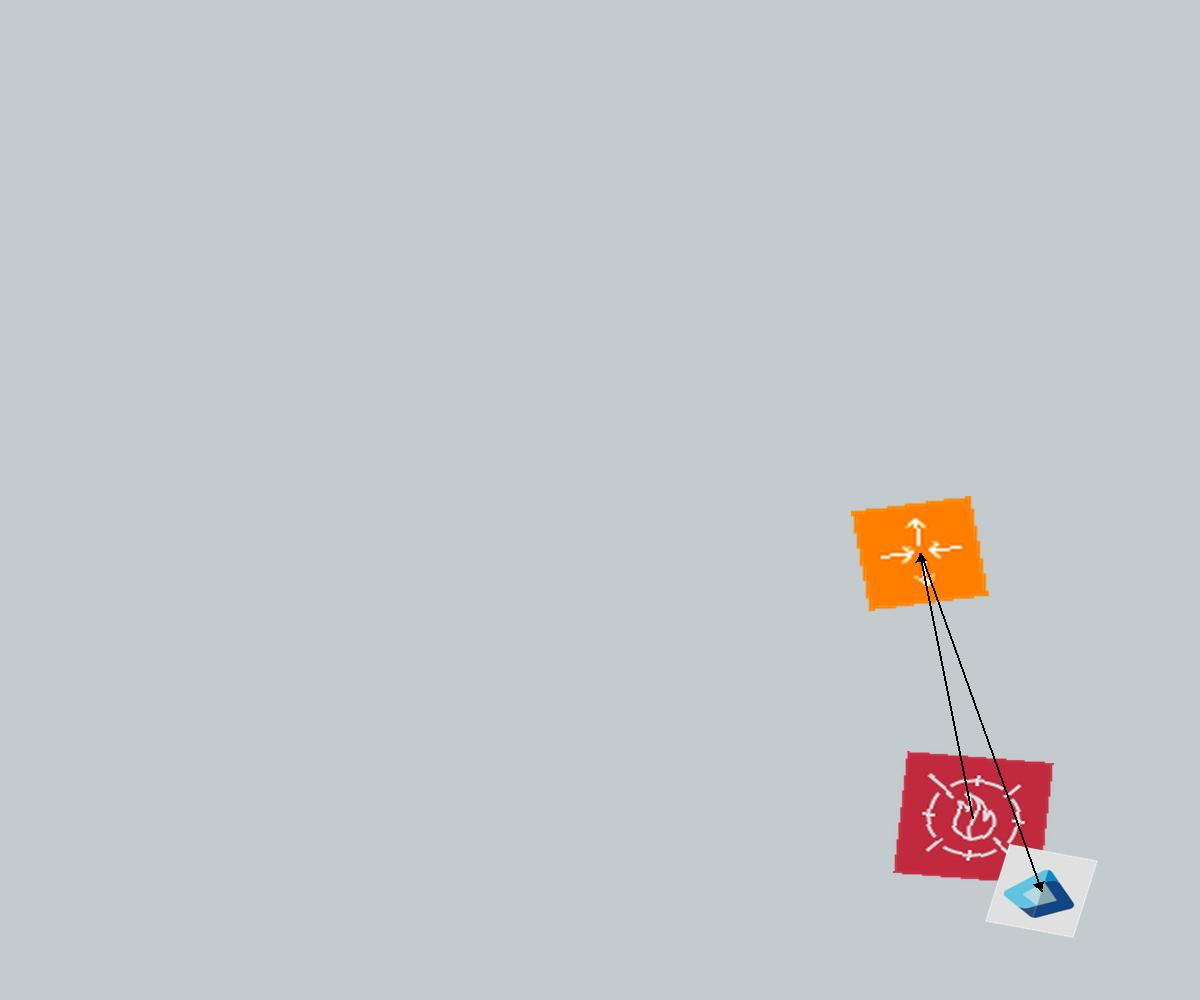AWS-Scaling-group: (851, 496, 989, 611)
AWS-WAF: (893, 751, 1054, 885)
Azure_microsoft_entra: (985, 844, 1098, 938)
